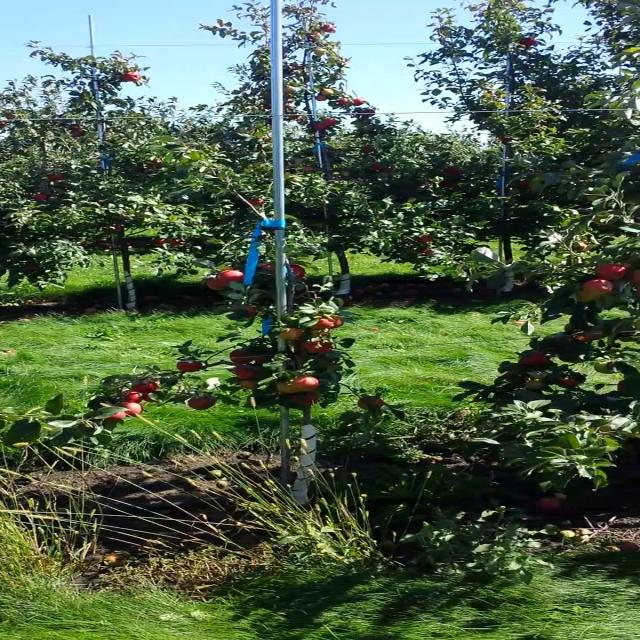apple: (593, 264, 626, 282), (582, 278, 614, 294), (297, 341, 334, 354), (292, 376, 320, 392), (288, 393, 320, 405), (116, 402, 142, 416), (188, 396, 214, 410), (216, 270, 245, 282), (522, 352, 548, 365), (577, 290, 603, 302), (357, 398, 383, 410), (206, 278, 228, 292), (230, 350, 250, 365), (234, 366, 257, 379), (311, 317, 334, 329), (279, 328, 301, 340), (178, 361, 202, 372), (290, 263, 306, 279), (140, 389, 161, 401), (525, 379, 545, 391), (132, 382, 156, 392), (121, 391, 140, 403), (557, 376, 577, 387), (244, 304, 258, 318), (241, 378, 257, 390), (276, 382, 295, 392), (249, 355, 272, 363), (331, 316, 345, 328), (106, 412, 126, 420), (630, 269, 639, 285), (576, 334, 592, 342), (258, 264, 274, 271), (575, 242, 587, 250), (618, 380, 626, 392)
